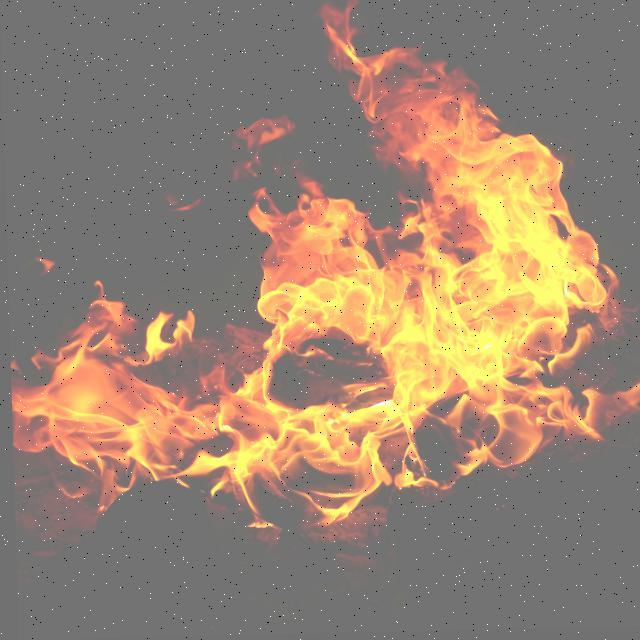Fire: (1, 66, 639, 525)
